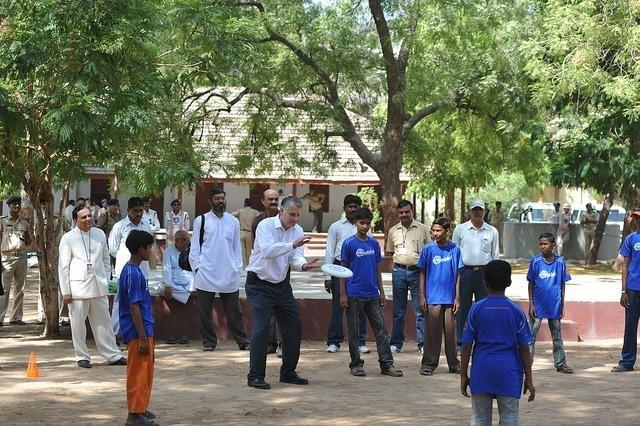car: (571, 204, 627, 243)
truck: (521, 198, 555, 223)
